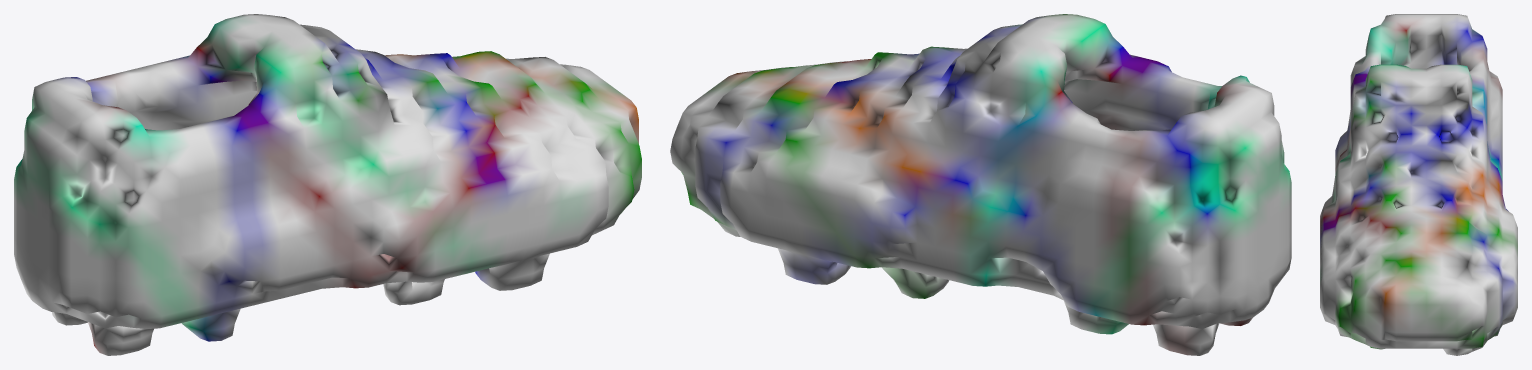
3 renders of one model, left to right at view 1: azimuth 30°, elevation 25°; view 2: azimuth 150°, elevation 25°; view 3: azimuth 270°, elevation 25°, orthographic. The views are drawn at different scales.
Bounding box in the file's own units: 1.6 × 0.7 × 0.65.
